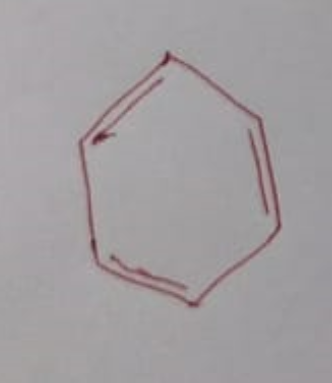shape_mask: (66, 42, 296, 325)
